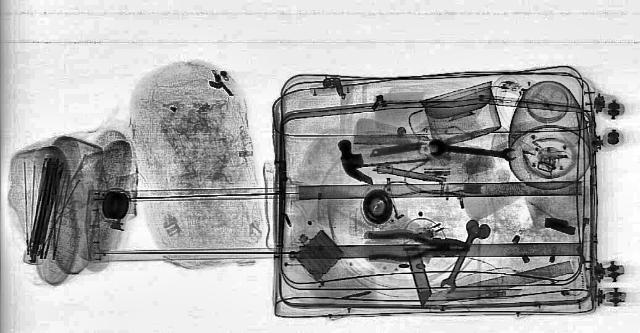Pliers: (368, 232, 470, 260)
Wrench: (438, 225, 482, 293), (426, 140, 520, 162)
